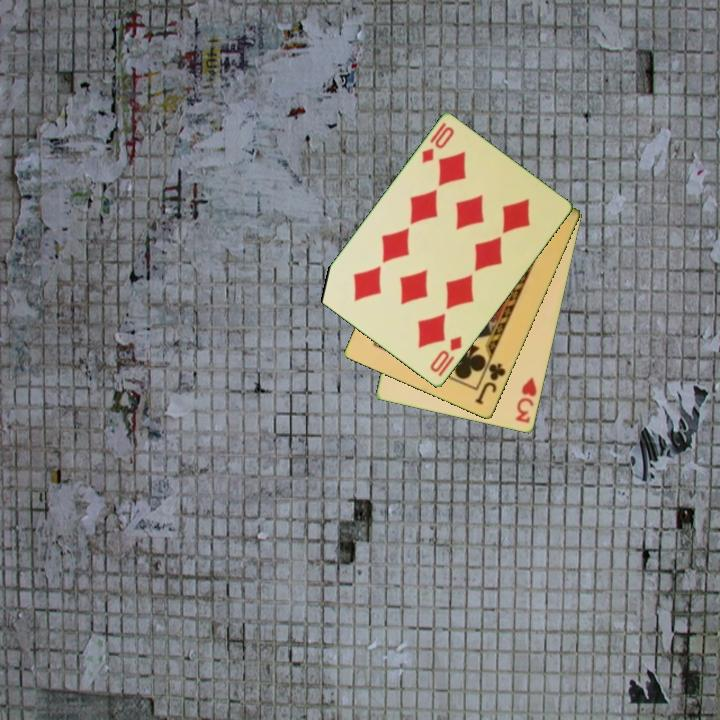10d: (418, 119, 457, 167), (426, 333, 465, 376)
3h: (512, 374, 540, 426)
Jc: (472, 360, 509, 408)
